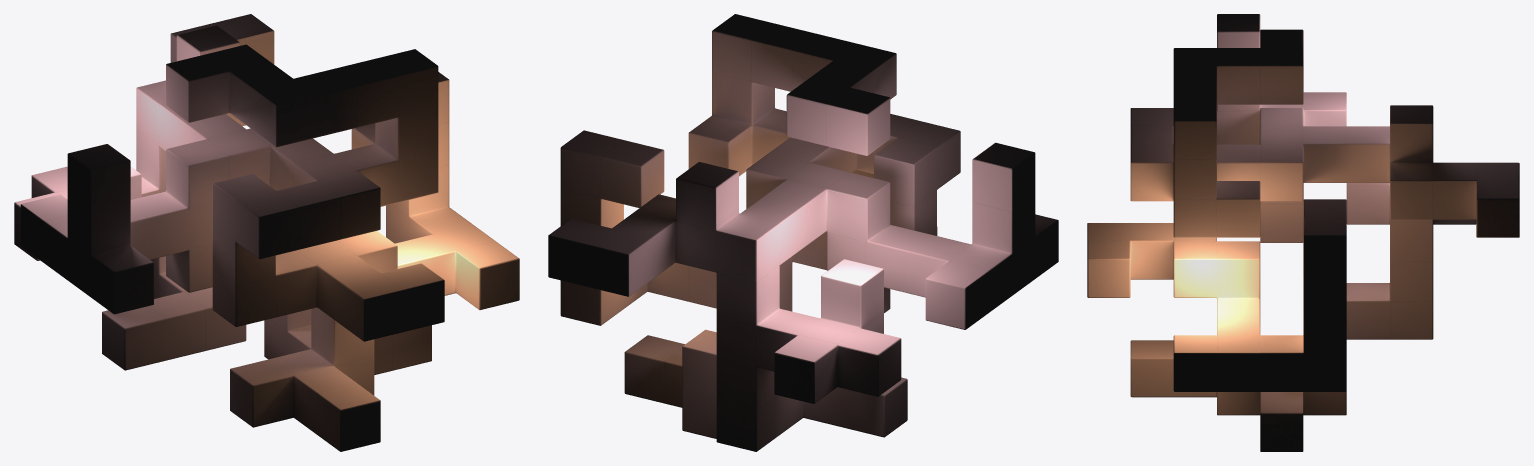
The model's file is procedural-abstract-shape.glb.
The picture shows the model from 3 angles, left to right: view 1: azimuth 30°, elevation 25°; view 2: azimuth 150°, elevation 25°; view 3: azimuth 270°, elevation 25°; orthographic projection. The views are drawn at different scales.
Visible parts, largest first — view 1: Box001; view 2: Box001; view 3: Box001.
Part boxes in pixels (x1=…): Box001: x1=14, y1=14, x2=519, y2=451; Box001: x1=548, y1=14, x2=1058, y2=451; Box001: x1=1087, y1=14, x2=1519, y2=451.
Bounding box in the file's own units: 49.21 × 39.37 × 49.21.
1 material, 1 textured.
